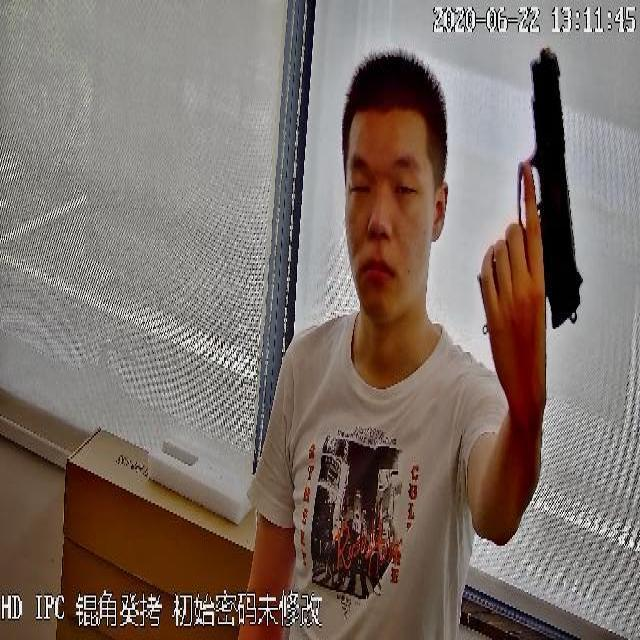pistol: (480, 48, 582, 345)
